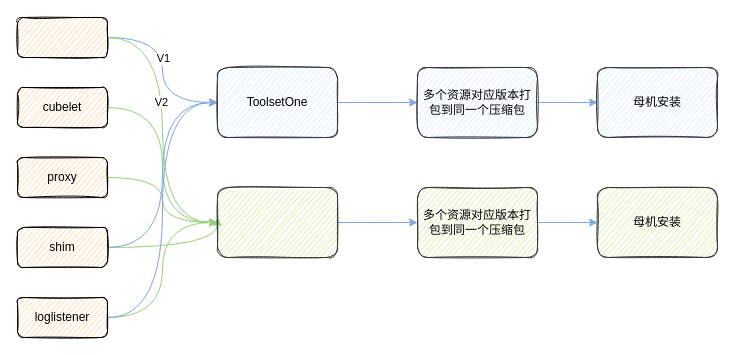
This 735x355 diagram has some shape labels left out. The shapes that lost their labels are listed below. From the top down, each one's centre as x and y in pixels, then its label:
At point 62,37: "opagent".
At point 277,222: "ToolsetTwo".
